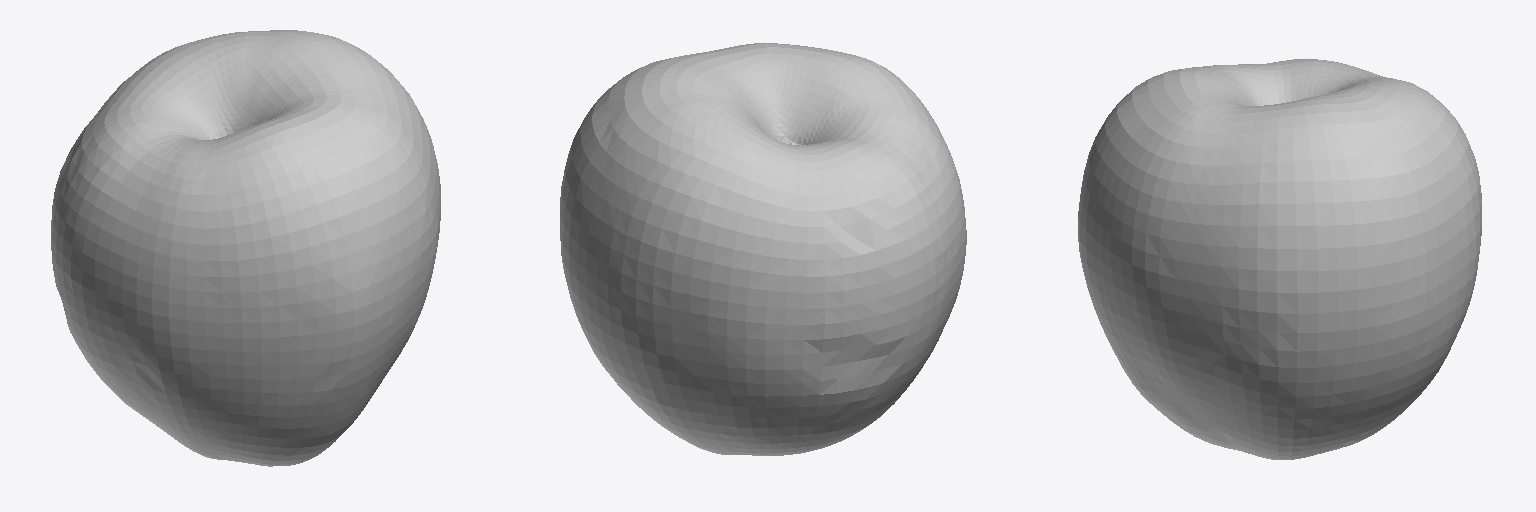
File: apple.obj
3 renders of one model, left to right at view 1: azimuth 30°, elevation 25°; view 2: azimuth 150°, elevation 25°; view 3: azimuth 270°, elevation 25°, orthographic.
Parts seen in each view (by area): view 1: apple_Cube; view 2: apple_Cube; view 3: apple_Cube.
Part boxes in pixels (x1,y1,x2,y2): apple_Cube: (51,30,440,466); apple_Cube: (560,43,966,455); apple_Cube: (1078,59,1481,459).
Bounding box in the file's own units: 0.1606 × 0.1593 × 0.1596.